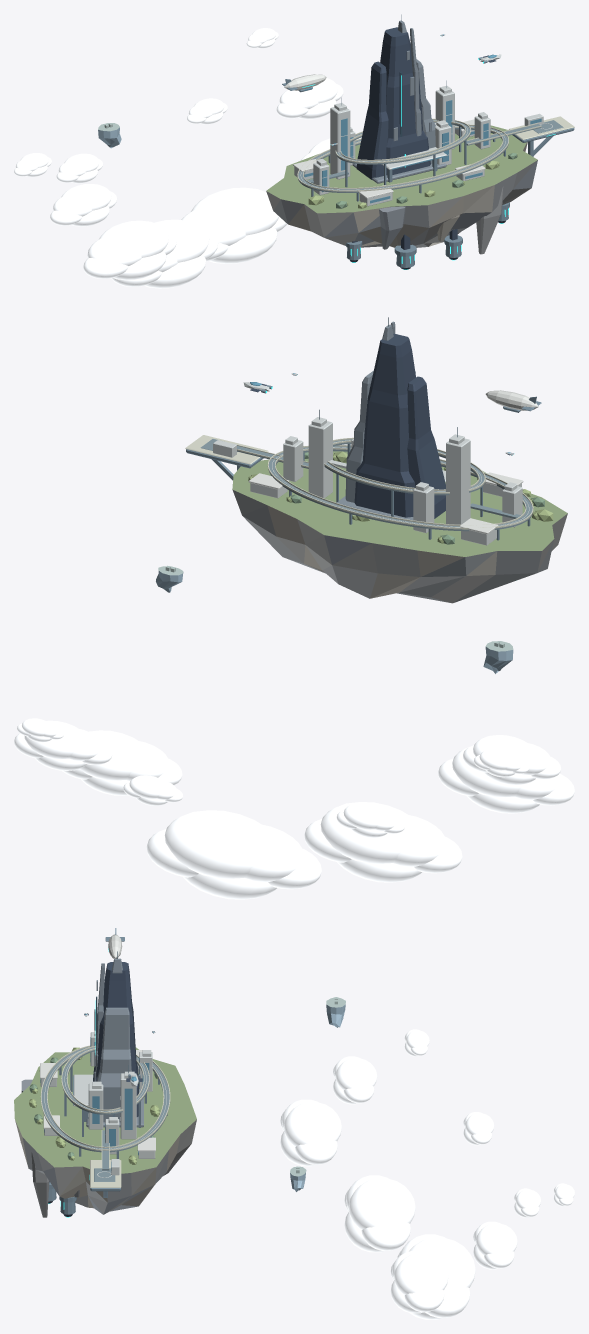
3 renders of one model, top to bottom at view 1: azimuth 30°, elevation 25°; view 2: azimuth 150°, elevation 25°; view 3: azimuth 270°, elevation 25°, orthographic. The views are drawn at different scales.
Visible parts, largest first — view 1: Main island | asymmetric faceted rock, Cloud bank 05 | editable mesh, Cloud bank 02 | editable mesh, Colony ship | continuous primary keel, Cloud bank 04 | editable mesh, Colony ship | port external hull, Cloud bank 00 | editable mesh, Cloud bank 01 | editable mesh, Building 00 | complete editable module, Cloud bank 08 | editable mesh, Ring road 1 | deck, Cloud bank 09 | editable mesh (+21 smaller); view 2: Main island | asymmetric faceted rock, Cloud bank 05 | editable mesh, Colony ship | continuous primary keel, Cloud bank 04 | editable mesh, Cloud bank 02 | editable mesh, Cloud bank 03 | editable mesh, Colony ship | port external hull, Cloud bank 01 | editable mesh, Cloud bank 00 | editable mesh, Building 00 | complete editable module, Building 01 | complete editable module, Cloud bank 08 | editable mesh (+11 smaller); view 3: Main island | asymmetric faceted rock, Cloud bank 04 | editable mesh, Cloud bank 02 | editable mesh, Cloud bank 03 | editable mesh, Cloud bank 05 | editable mesh, Colony ship | starboard stepped armor, Colony ship | continuous primary keel, Cloud bank 01 | editable mesh, Cloud bank 00 | editable mesh, Ring road 1 | deck, Building 01 | complete editable module, Cloud bank 08 | editable mesh (+7 smaller).
Part boxes in pixels (left/top/right/bottom): Main island | asymmetric faceted rock: left=266, top=125, right=537, bottom=247; Cloud bank 05 | editable mesh: left=181, top=187, right=286, bottom=263; Cloud bank 02 | editable mesh: left=83, top=220, right=176, bottom=280; Colony ship | continuous primary keel: left=380, top=27, right=430, bottom=175; Cloud bank 04 | editable mesh: left=111, top=219, right=218, bottom=288; Colony ship | port external hull: left=356, top=61, right=388, bottom=179; Cloud bank 00 | editable mesh: left=50, top=184, right=117, bottom=226; Cloud bank 01 | editable mesh: left=276, top=78, right=343, bottom=119; Building 00 | complete editable module: left=330, top=98, right=350, bottom=179; Cloud bank 08 | editable mesh: left=56, top=153, right=103, bottom=183; Ring road 1 | deck: left=298, top=125, right=508, bottom=192; Cloud bank 09 | editable mesh: left=187, top=98, right=227, bottom=124; Main island | asymmetric faceted rock: left=232, top=446, right=567, bottom=603; Cloud bank 05 | editable mesh: left=146, top=810, right=321, bottom=899; Colony ship | continuous primary keel: left=354, top=333, right=415, bottom=517; Cloud bank 04 | editable mesh: left=304, top=802, right=462, bottom=882; Cloud bank 02 | editable mesh: left=438, top=747, right=574, bottom=813; Cloud bank 03 | editable mesh: left=62, top=730, right=182, bottom=795; Colony ship | port external hull: left=407, top=376, right=445, bottom=518; Cloud bank 01 | editable mesh: left=14, top=720, right=112, bottom=770; Cloud bank 00 | editable mesh: left=463, top=735, right=561, bottom=785; Building 00 | complete editable module: left=446, top=427, right=470, bottom=524; Building 01 | complete editable module: left=308, top=409, right=332, bottom=498; Cloud bank 08 | editable mesh: left=336, top=803, right=404, bottom=837; Main island | asymmetric faceted rock: left=14, top=1047, right=196, bottom=1214; Cloud bank 04 | editable mesh: left=344, top=1175, right=415, bottom=1252; Cloud bank 02 | editable mesh: left=280, top=1099, right=341, bottom=1166; Cloud bank 03 | editable mesh: left=390, top=1251, right=448, bottom=1313; Cloud bank 05 | editable mesh: left=397, top=1234, right=475, bottom=1319; Colony ship | starboard stepped armor: left=96, top=1007, right=131, bottom=1122; Colony ship | continuous primary keel: left=93, top=962, right=138, bottom=1116; Cloud bank 01 | editable mesh: left=473, top=1221, right=517, bottom=1269; Cloud bank 00 | editable mesh: left=333, top=1056, right=377, bottom=1104; Ring road 1 | deck: left=41, top=1047, right=169, bottom=1152; Building 01 | complete editable module: left=120, top=1065, right=136, bottom=1139; Cloud bank 08 | editable mesh: left=463, top=1112, right=494, bottom=1145.
Size of the model in its own units: 52.72 by 42.63 by 58.37.
